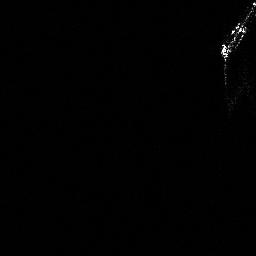ship: (219, 1, 256, 60)
